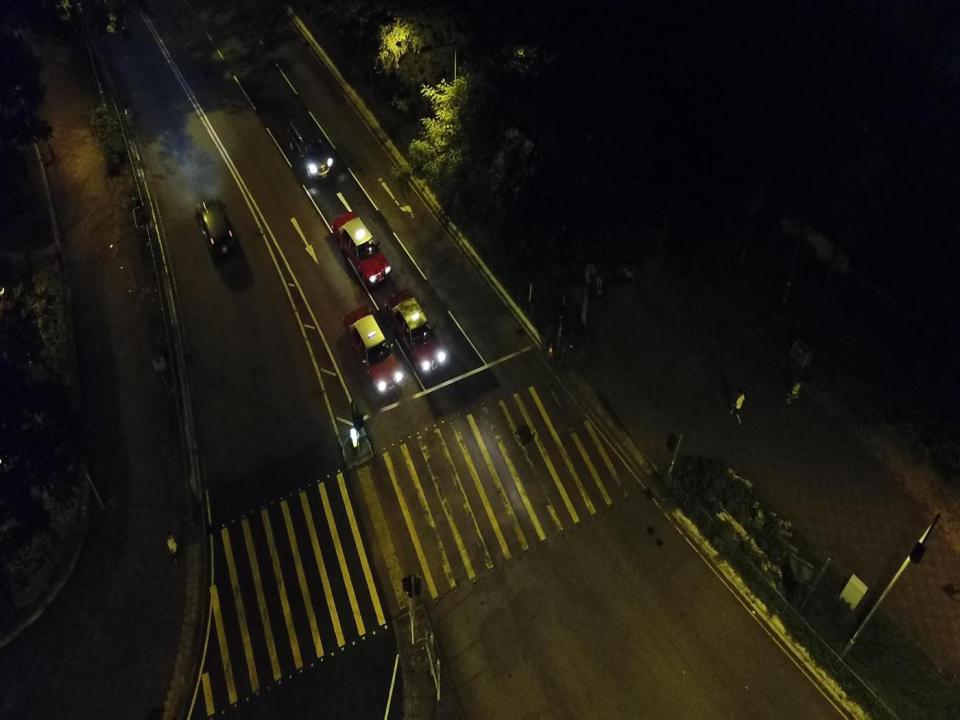car: (342, 305, 403, 396), (384, 290, 448, 376), (331, 211, 392, 286), (285, 111, 338, 186), (195, 198, 238, 258)
